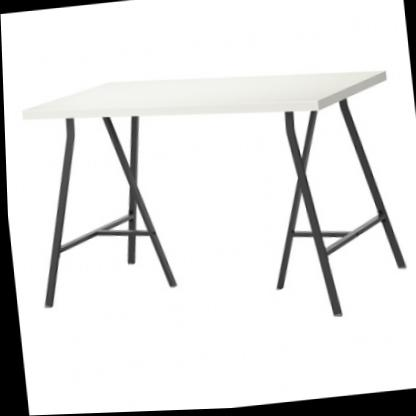Table: (14, 46, 413, 353)
